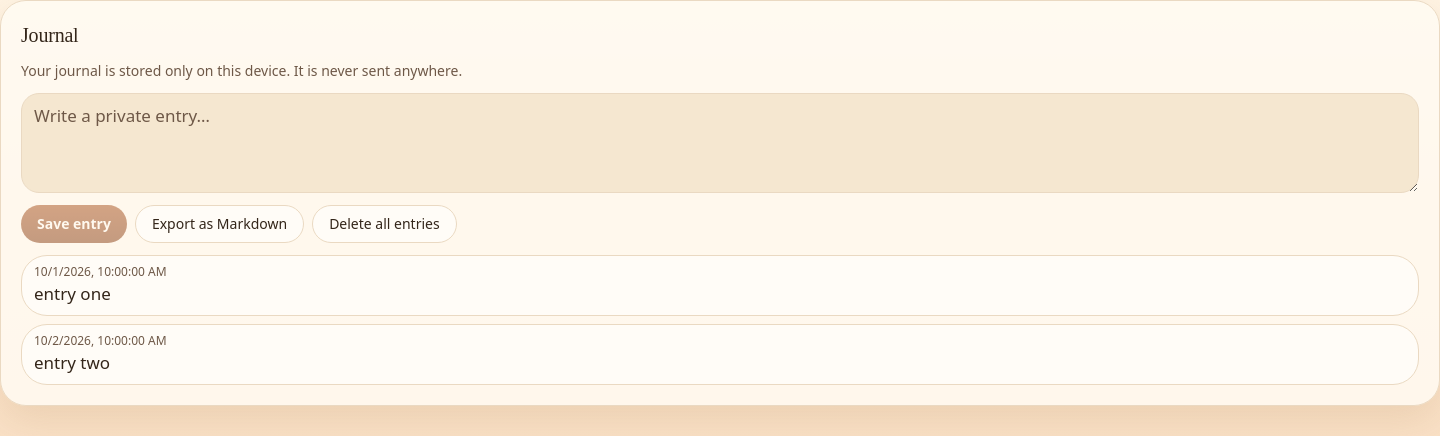
Scenario: JournalCard — export and delete › delete-all clears the list and the stored data
The width and height of the screenshot is (1440, 436).
Expected: the text "entry one" is shown, 34,282 -> 111,305
Step 1. Click the button "Delete all entries" → (384, 224), box 312,205 -> 457,243
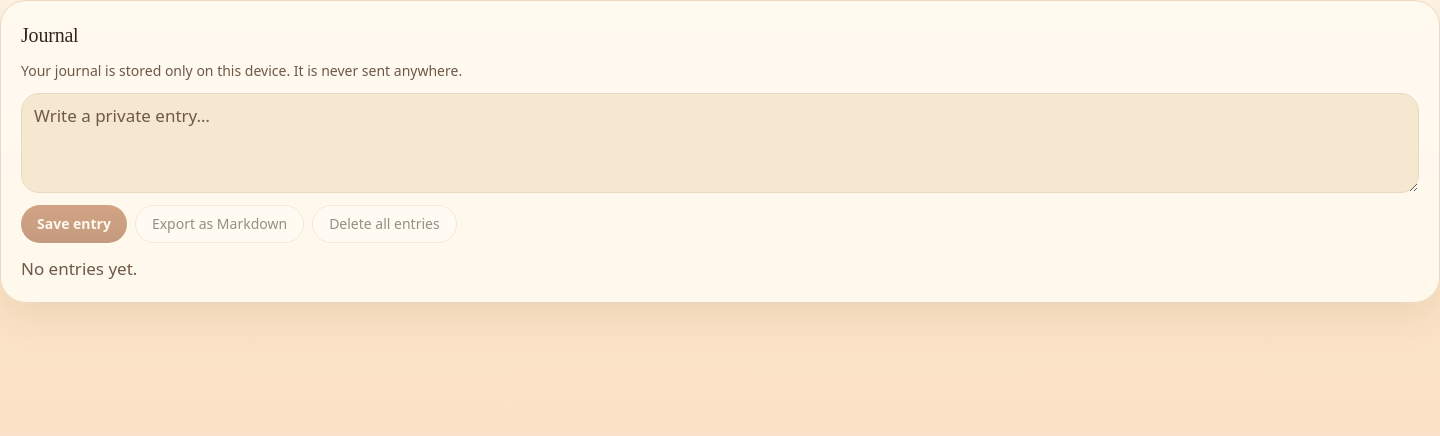
Expected: the text "entry one" is gone
Expected: the text "No entries yet." is shown, 21,257 -> 137,280
